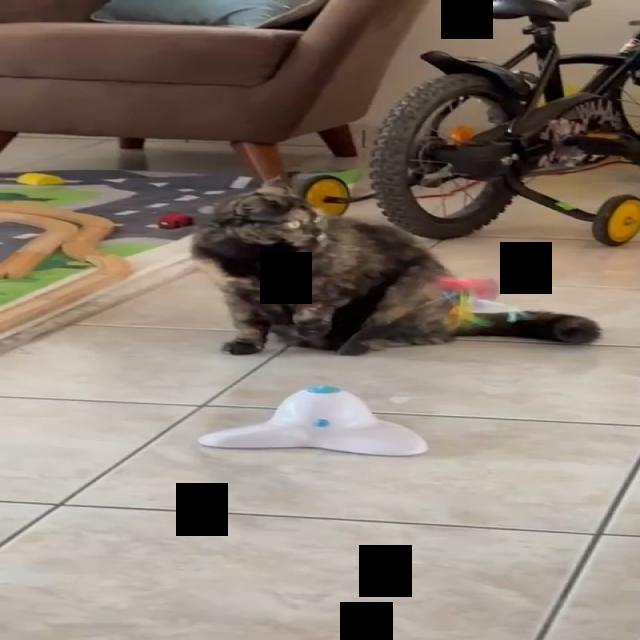authorized: (187, 184, 601, 356)
